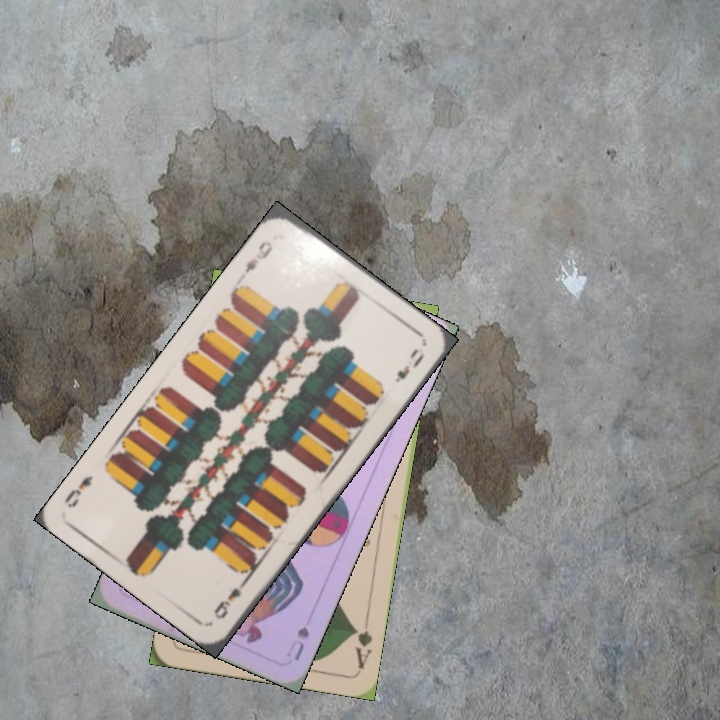E9: (209, 574, 251, 622), (240, 236, 276, 276)
GA: (349, 613, 375, 672)
SU: (282, 622, 312, 663)
